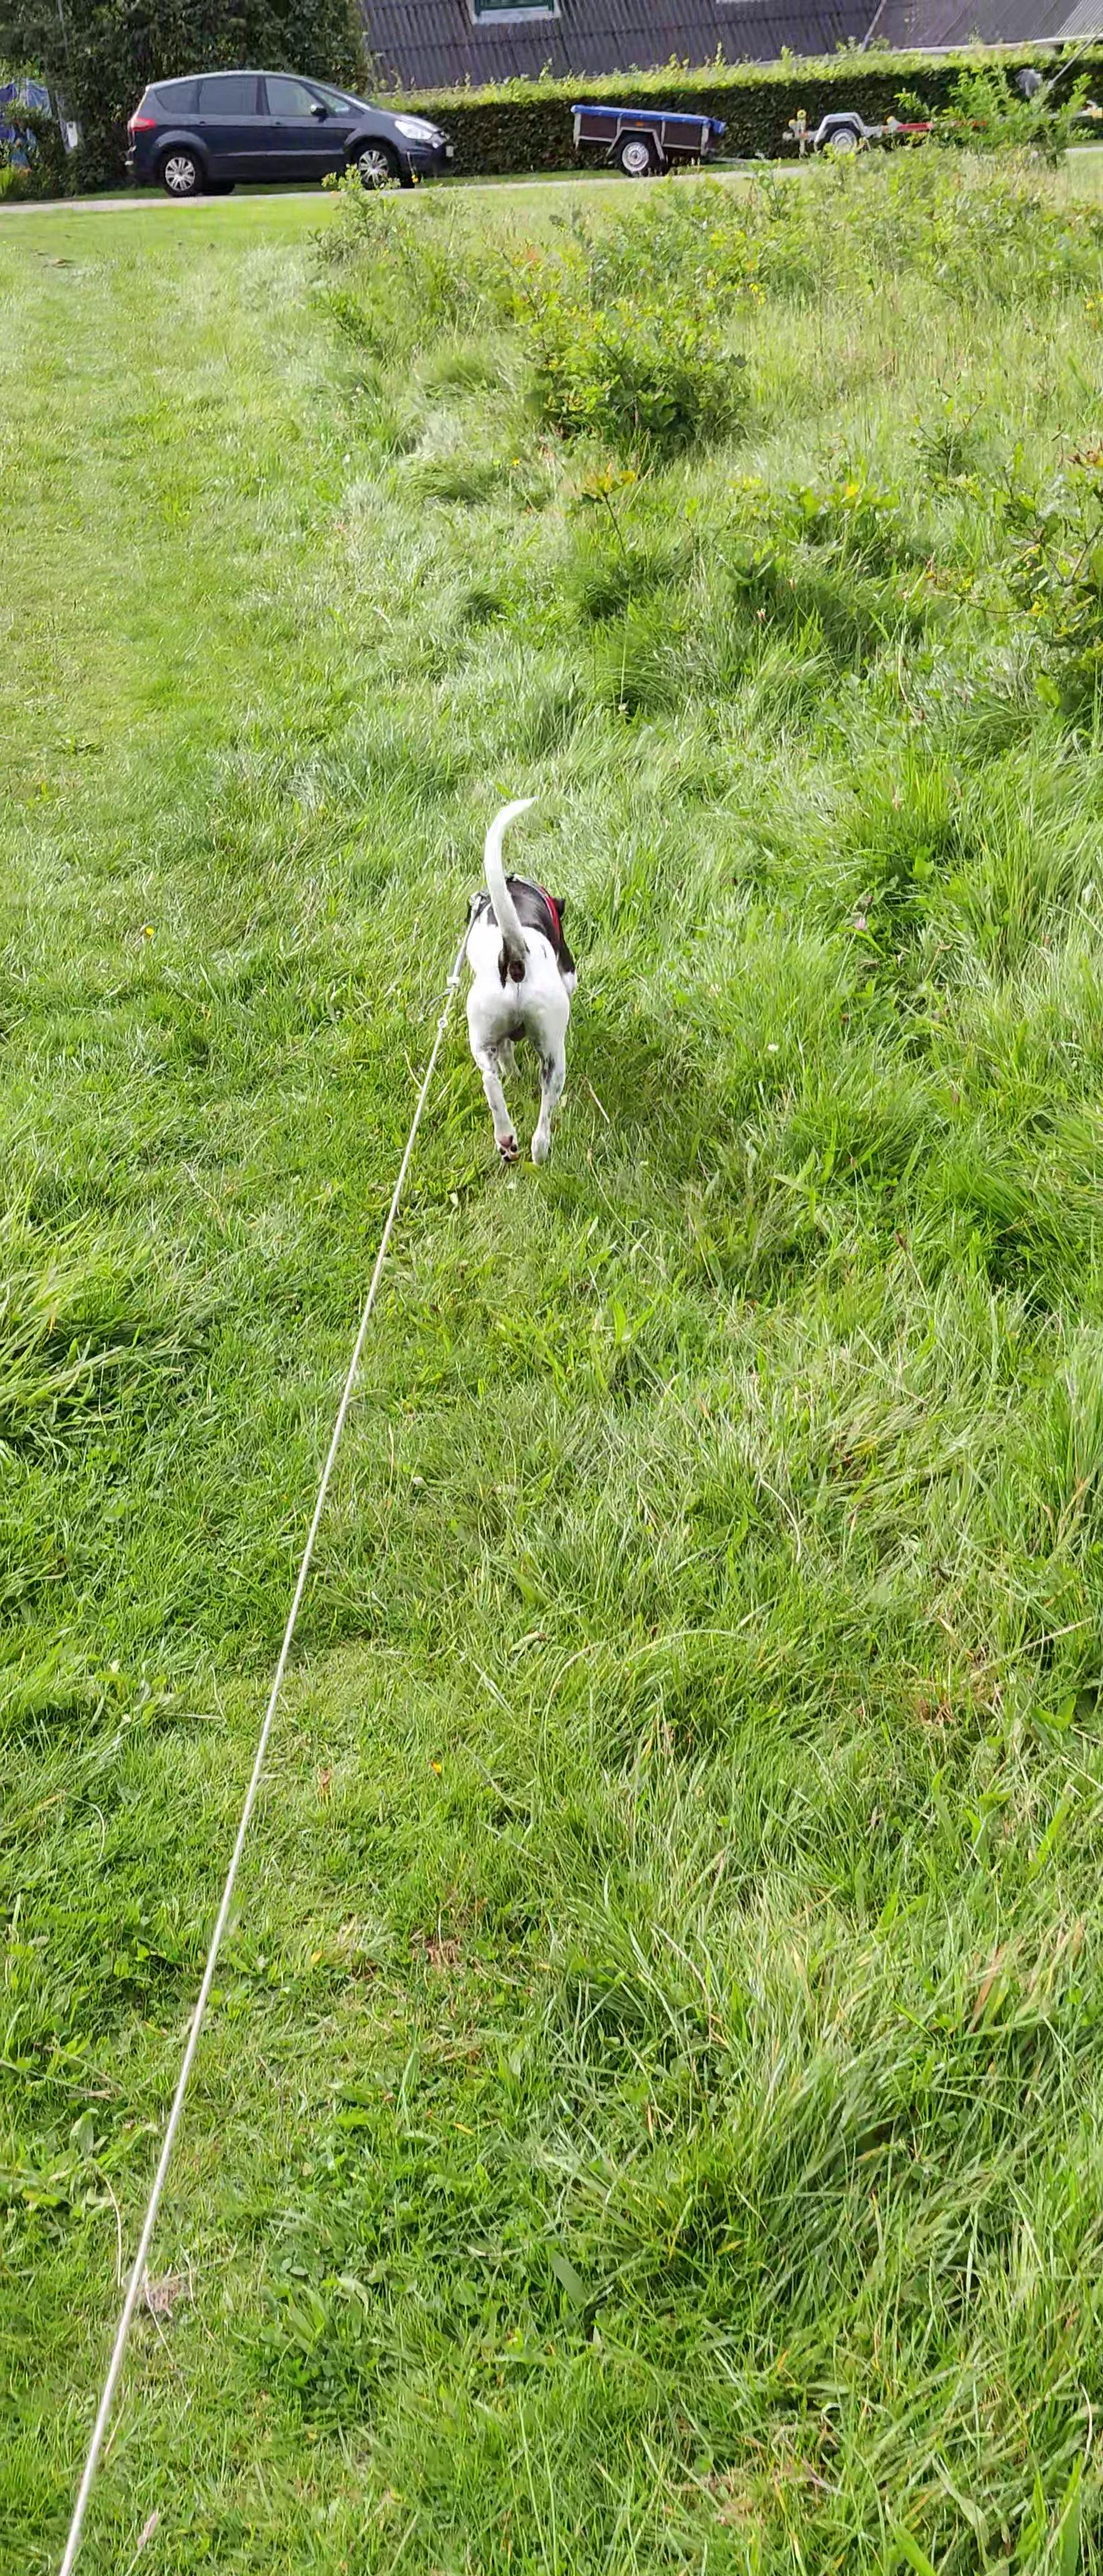Dog: (454, 790, 590, 1166)
